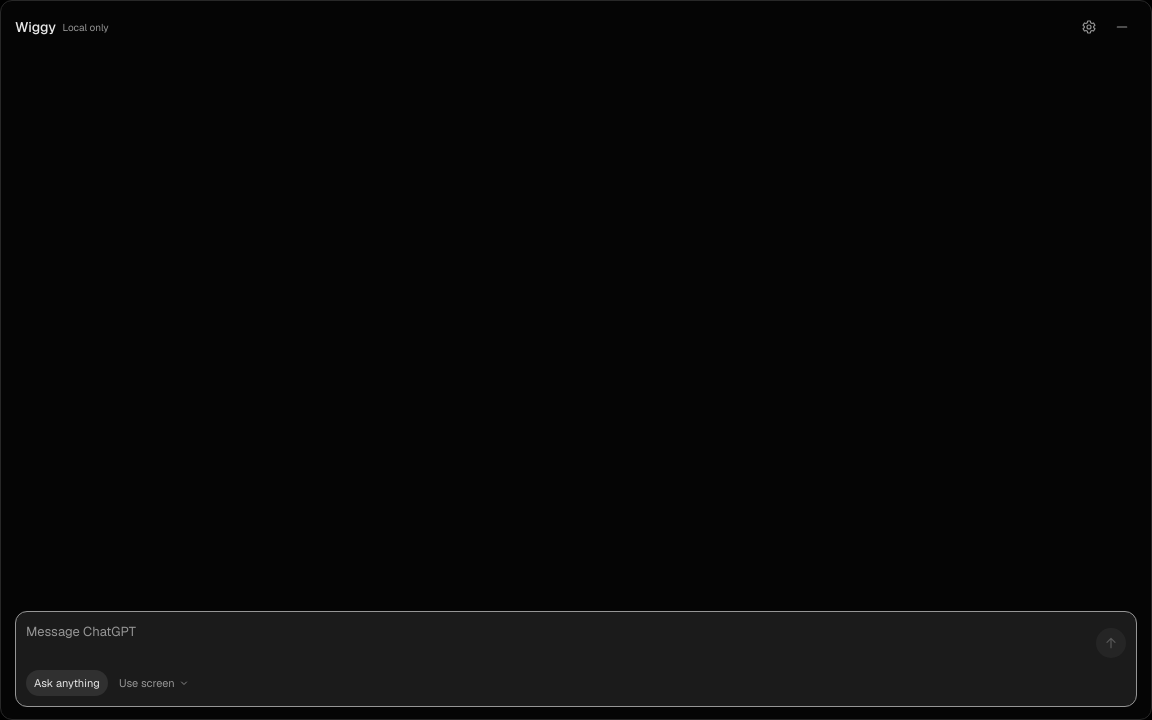
chat and settings › expands settings and saves a selected corner while preserving the draft
The width and height of the screenshot is (1152, 720).
Type "Keep my draft" into the text box named "Your message" at (557, 643), box [26, 622, 1088, 664]
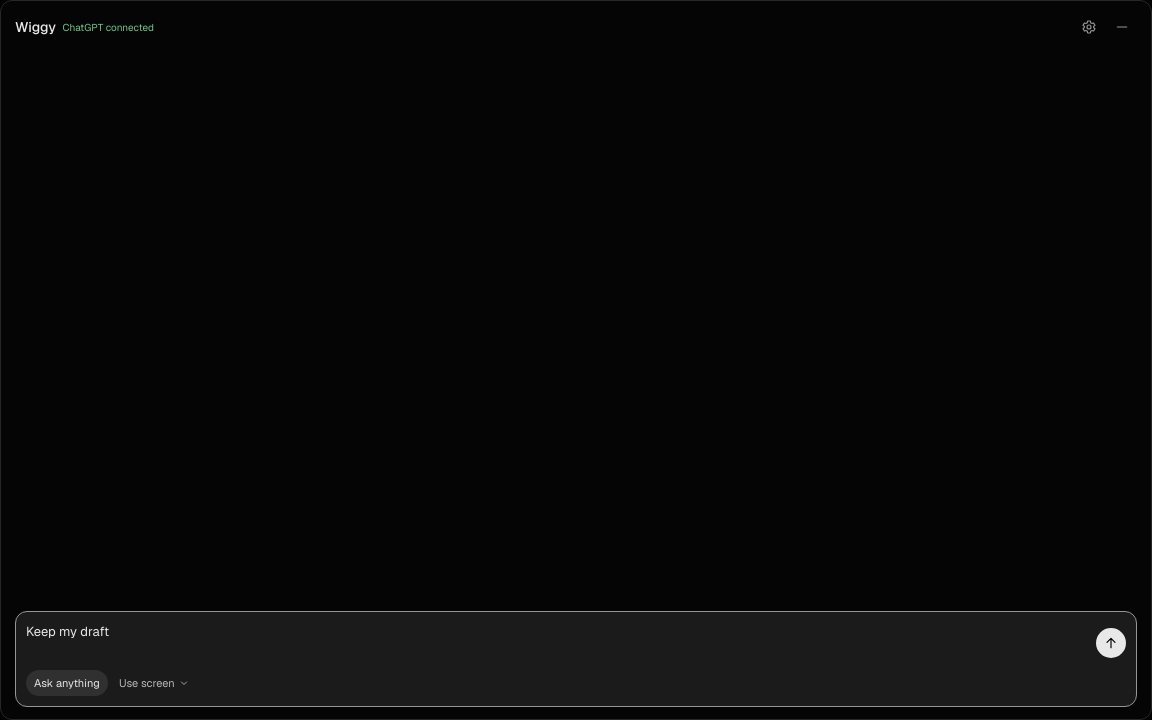
Click the button named "Settings" at (1089, 27), box [1074, 12, 1104, 42]
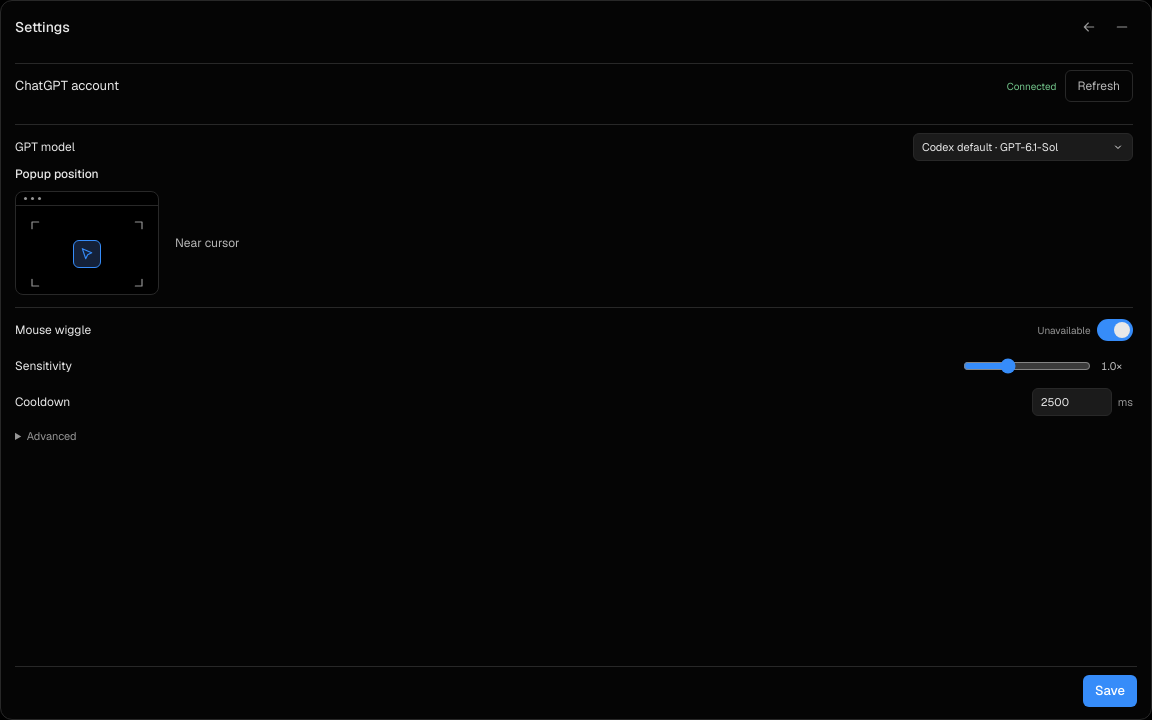
Expected: the number of buttons named "Back" is 1, [1074, 12, 1104, 42]
Click the radio button named "Bottom right" at (138, 282), box [124, 268, 152, 296]
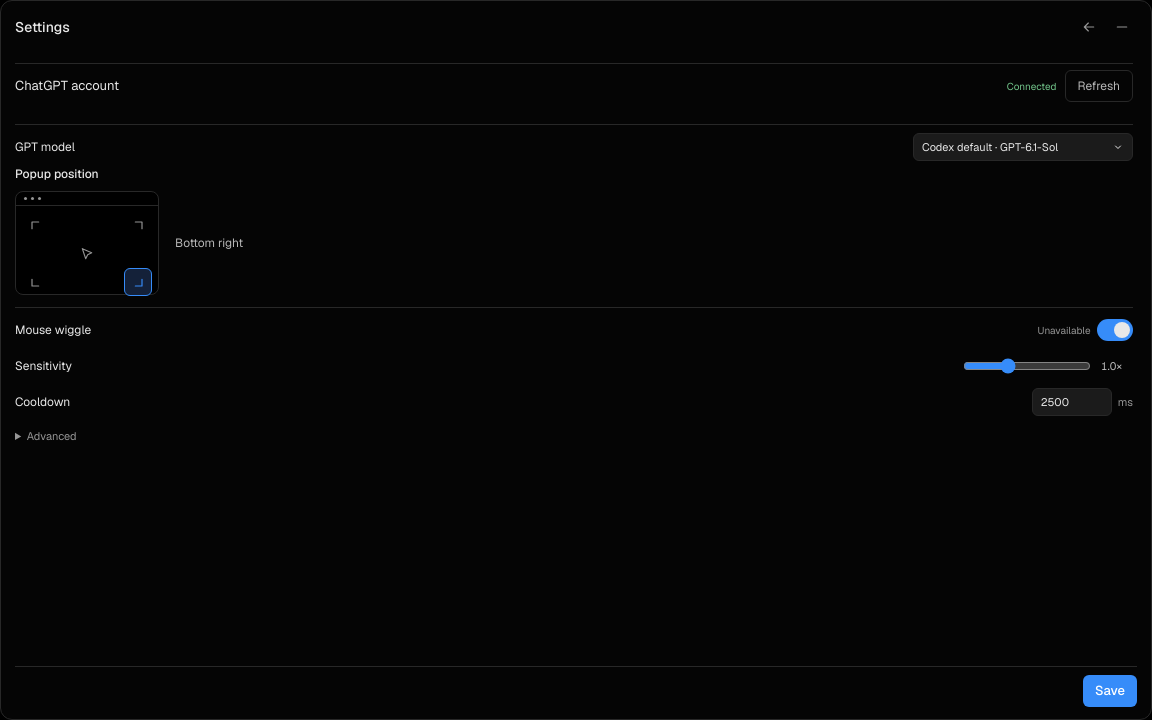
Click the button with aria-label "Save settings" at (1110, 691), box [1083, 675, 1137, 707]
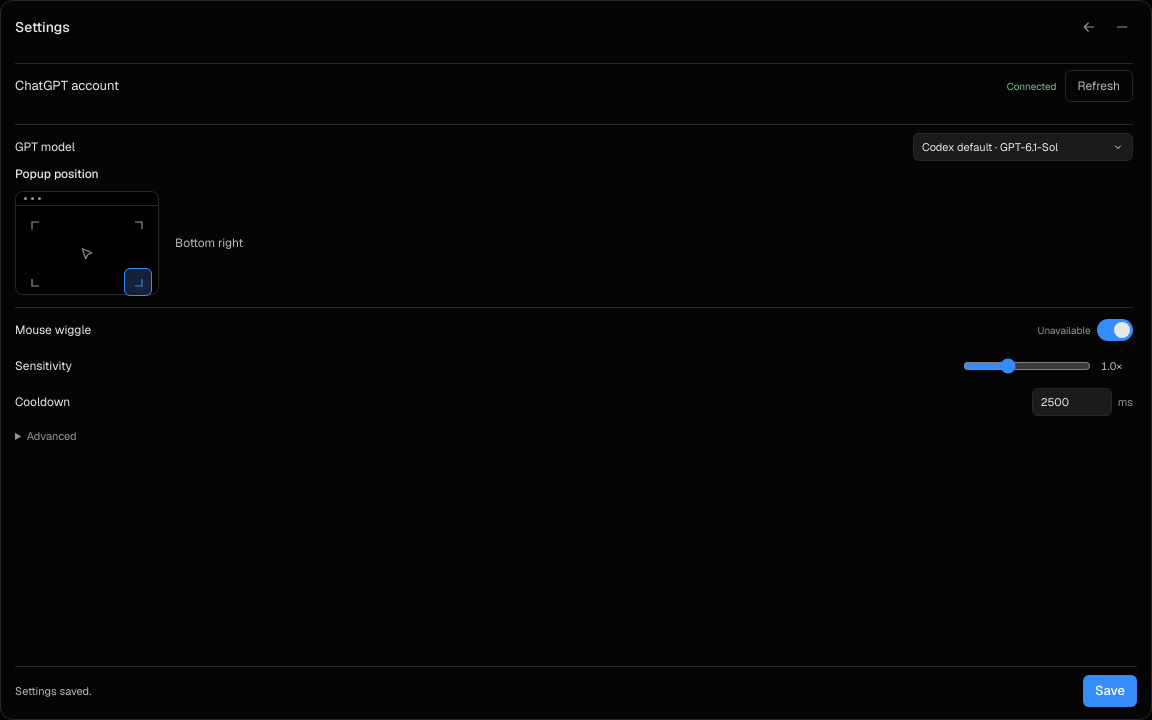
Expected: the text "Settings saved." is shown, [15, 683, 91, 699]
Click the button named "Back to chat" at (1089, 27), box [1074, 12, 1104, 42]
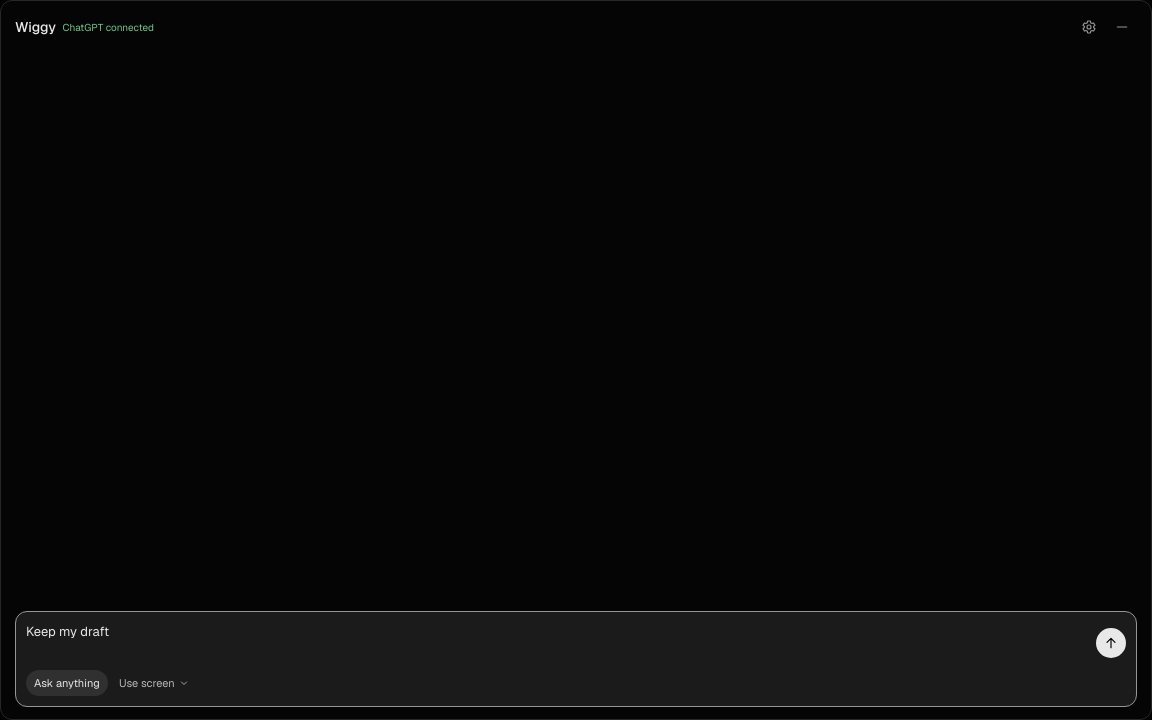
Expected: the text box named "Your message" holds "Keep my draft", [26, 622, 1088, 664]
